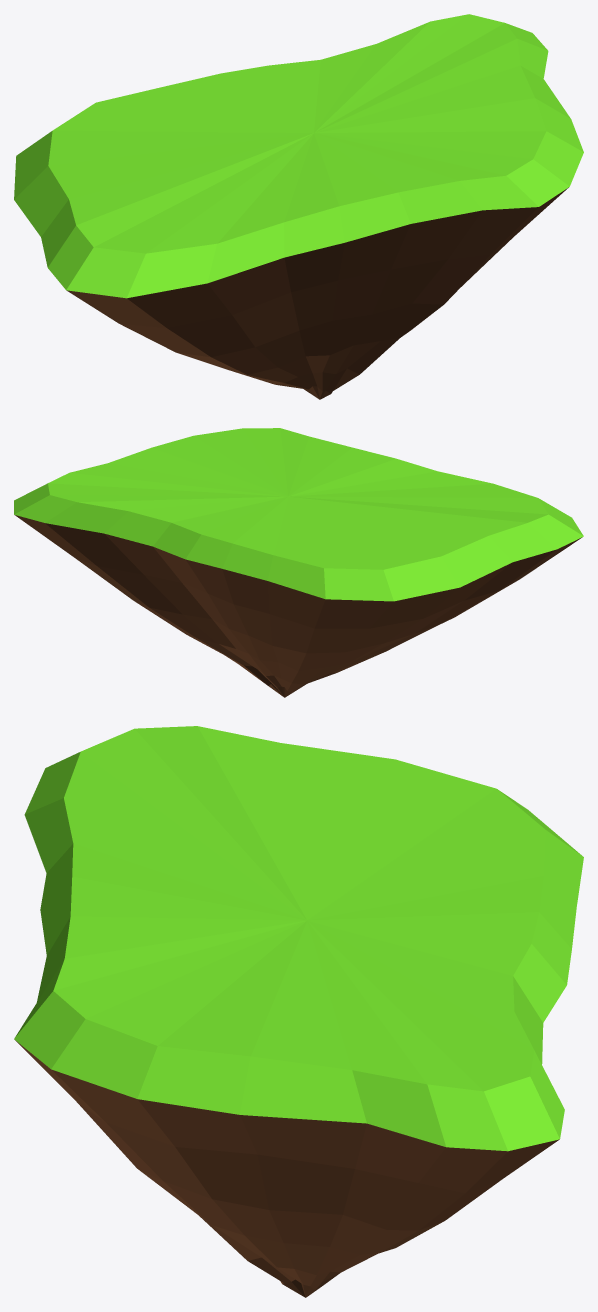
Rendered from FLOATINGISLAND2.fbx.
The picture shows the model from 3 angles, top to bottom: view 1: azimuth 30°, elevation 25°; view 2: azimuth 150°, elevation 25°; view 3: azimuth 270°, elevation 25°; orthographic projection. The views are drawn at different scales.
Parts seen in each view (by area): view 1: Vert.001, Vert; view 2: Vert.001, Vert; view 3: Vert.001, Vert.
Boxes of the visible parts, x1,y1,x2,y2 form: Vert.001: (14, 14, 583, 298); Vert: (66, 187, 568, 399); Vert.001: (14, 428, 583, 601); Vert: (15, 515, 582, 697); Vert.001: (14, 726, 583, 1151); Vert: (15, 1040, 559, 1297).
Size of the model in its own units: 1731 by 737 by 1004.
